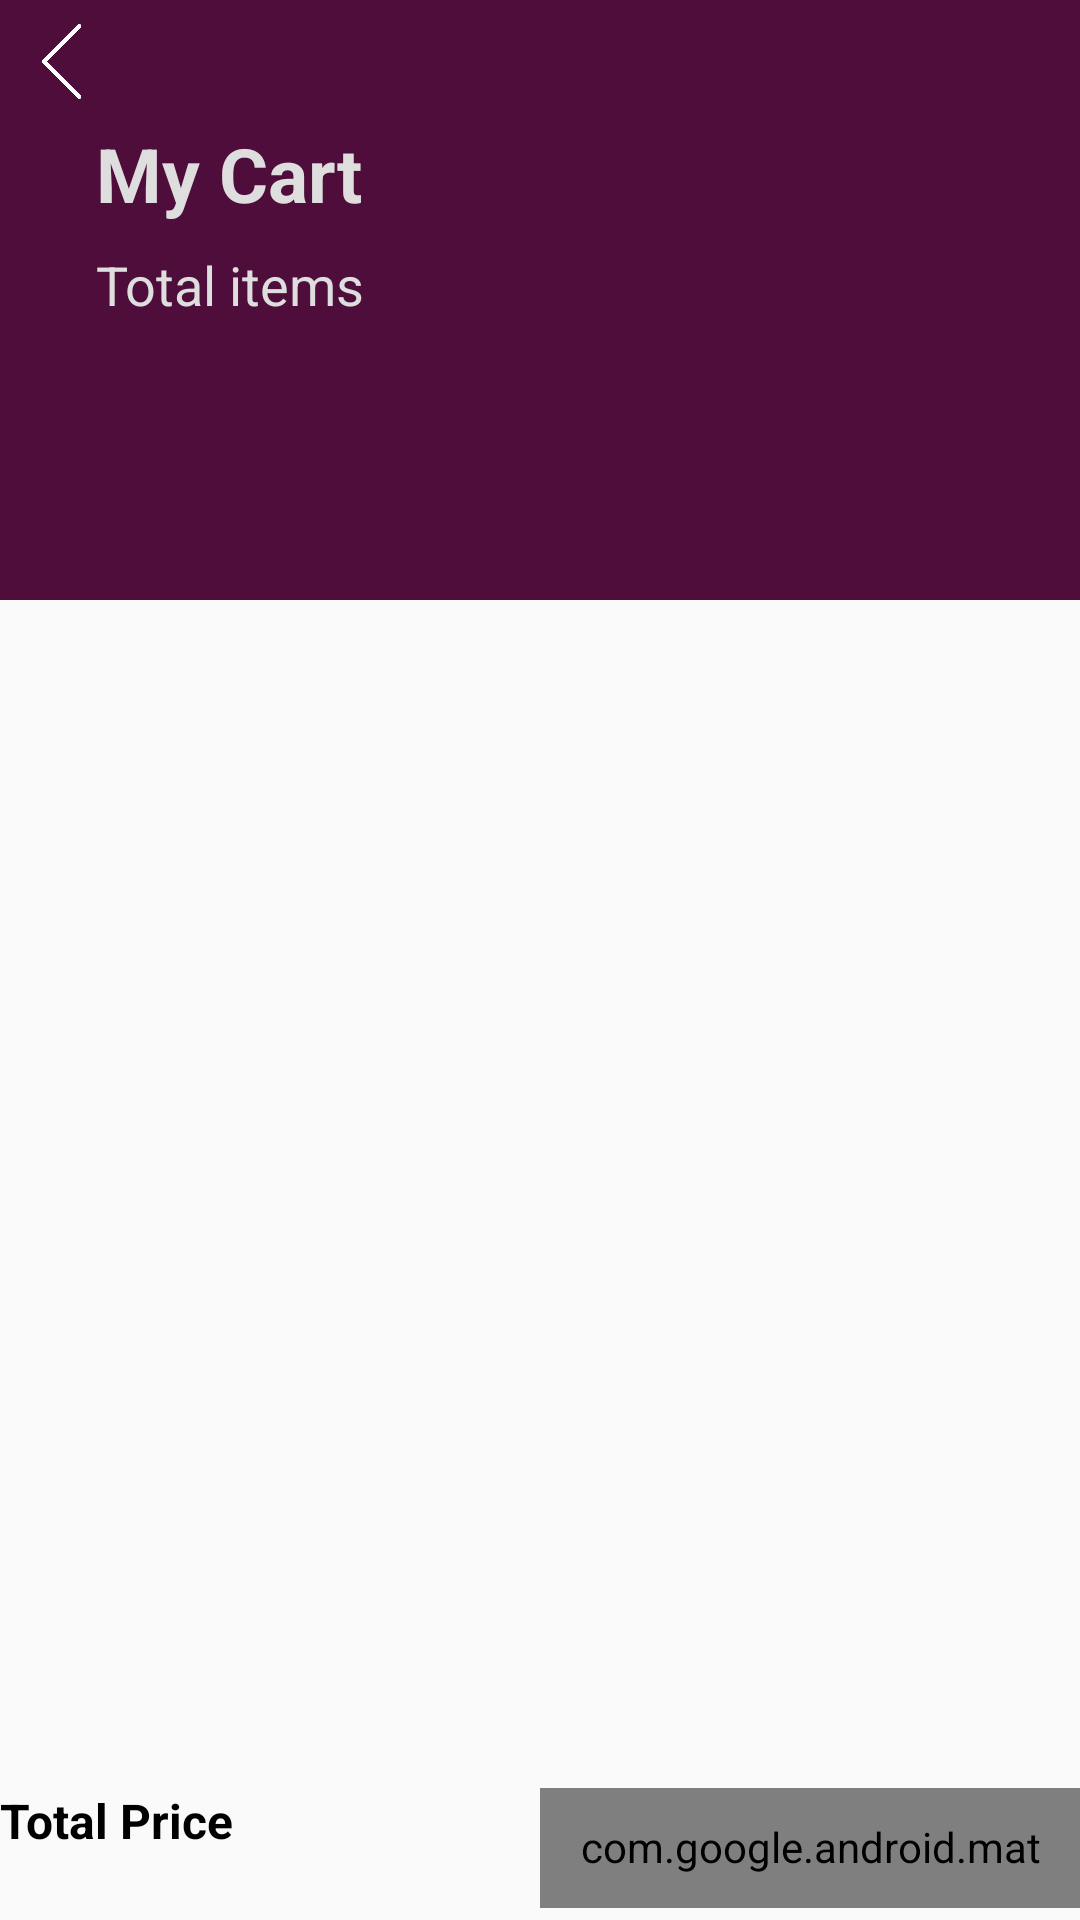

Screen size 1080x1920. Icon name, then its center in pixels as [x,y]:
back: [61,61]
